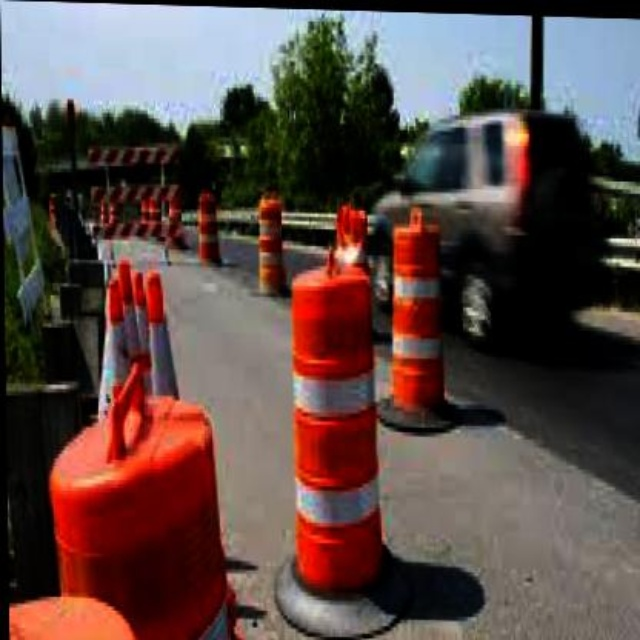obstacle: (279, 255, 379, 603), (388, 204, 447, 418)
